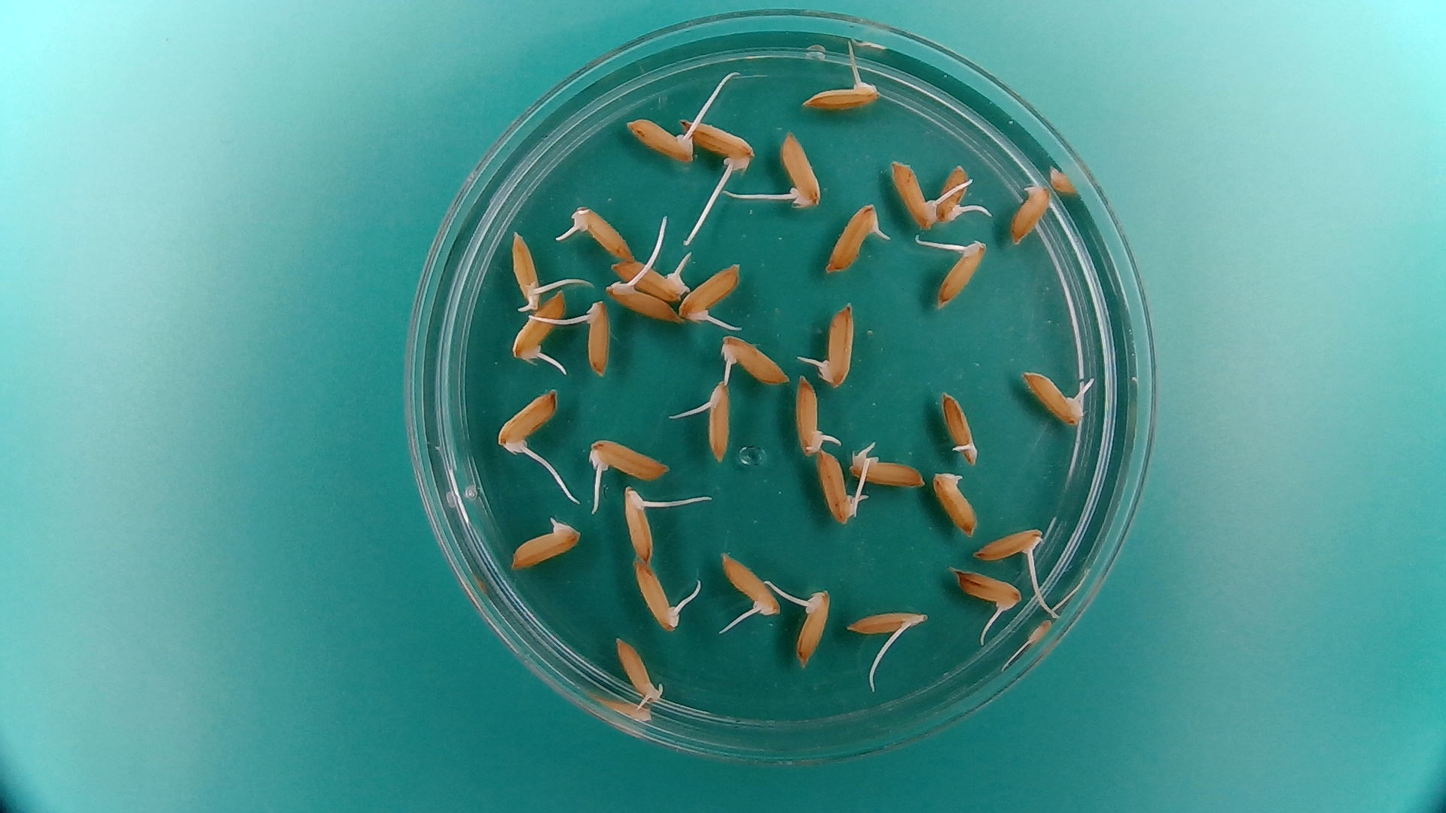no: (929, 467, 981, 539), (1008, 178, 1056, 246)
yes: (822, 200, 891, 275), (496, 385, 561, 460), (1018, 364, 1093, 426), (679, 115, 758, 173), (515, 288, 572, 366), (719, 550, 782, 620), (678, 260, 743, 325), (931, 236, 988, 310), (776, 126, 823, 210), (716, 333, 789, 386), (589, 437, 673, 483), (621, 114, 697, 164), (613, 633, 667, 703), (631, 557, 682, 631), (507, 522, 584, 571), (813, 449, 862, 525), (888, 155, 936, 231), (609, 257, 692, 300), (847, 446, 928, 490), (602, 278, 682, 321), (939, 388, 982, 468), (818, 303, 857, 388), (572, 204, 636, 255), (969, 524, 1046, 565), (575, 296, 612, 378), (956, 568, 1023, 613), (794, 583, 832, 662), (805, 78, 888, 111), (793, 371, 825, 454), (510, 231, 541, 313), (706, 379, 734, 464), (935, 166, 972, 228), (624, 486, 652, 563), (848, 613, 929, 639)
